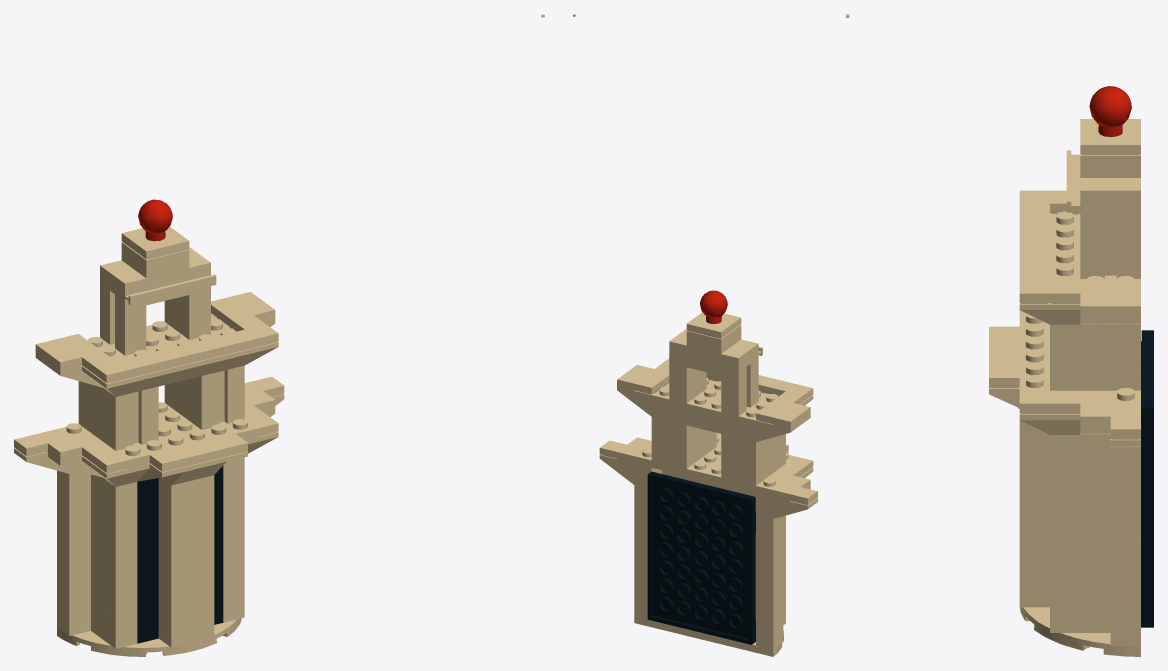
3 renders of one model, left to right at view 1: azimuth 30°, elevation 25°; view 2: azimuth 150°, elevation 25°; view 3: azimuth 270°, elevation 25°, orthographic. The views are drawn at different scales.
Parts seen in each view (by area): view 1: 迎泽大桥积木冰箱贴; view 2: 迎泽大桥积木冰箱贴; view 3: 迎泽大桥积木冰箱贴.
Boxes of the visible parts, box(x1,y1,x2,y2) form: 迎泽大桥积木冰箱贴: box(14, 199, 284, 656); 迎泽大桥积木冰箱贴: box(599, 290, 817, 656); 迎泽大桥积木冰箱贴: box(989, 86, 1153, 656).
Size of the model in its own units: 382 by 551 by 203.
